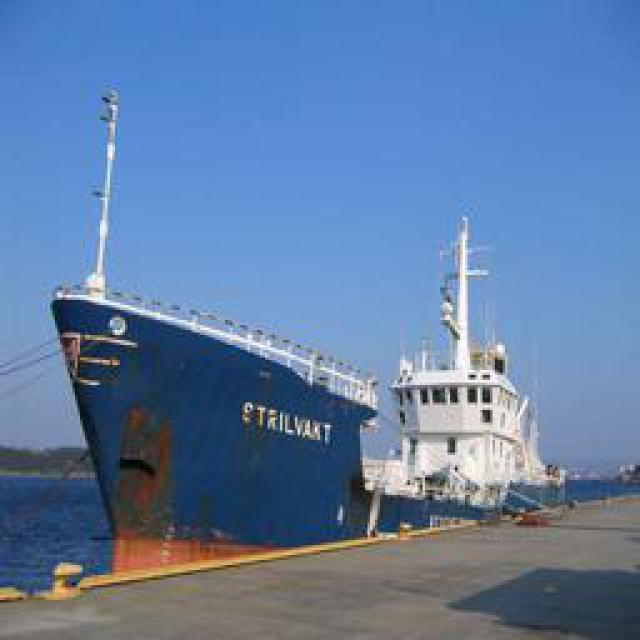Ship: (43, 207, 573, 583)
